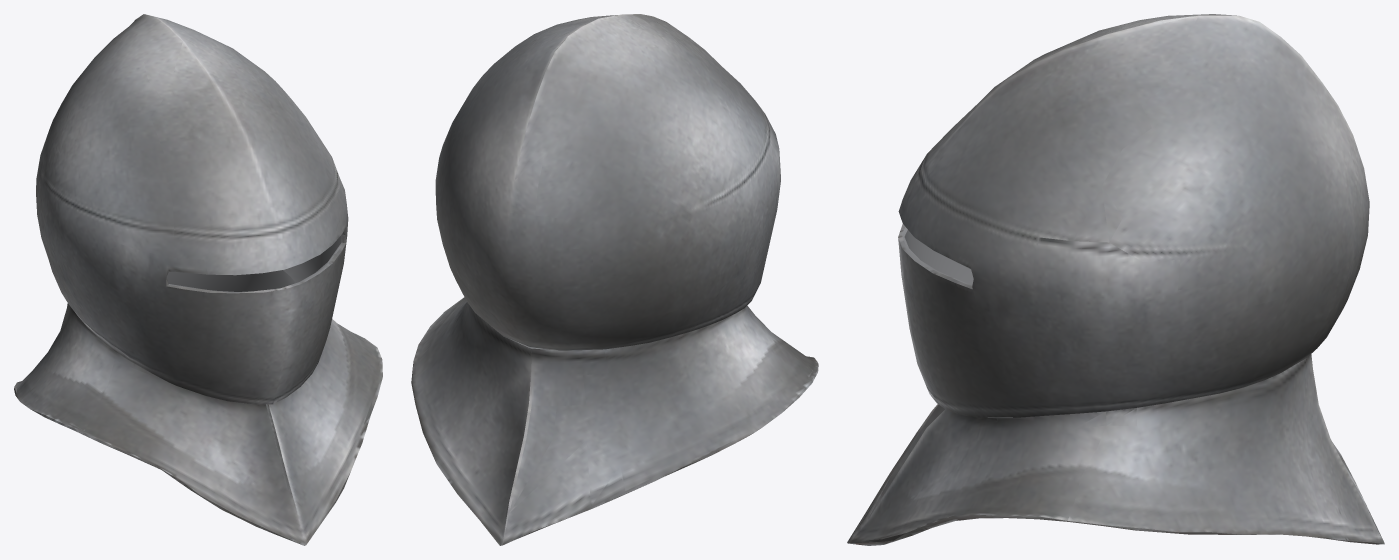
File: item_mm9_10121.glb
The picture shows the model from 3 angles, left to right: view 1: azimuth 30°, elevation 25°; view 2: azimuth 150°, elevation 25°; view 3: azimuth 270°, elevation 25°; orthographic projection. The views are drawn at different scales.
Parts seen in each view (by area): view 1: d10121; view 2: d10121; view 3: d10121.
Part boxes in pixels (x1,y1,x2,y2): d10121: (14, 14, 382, 545); d10121: (411, 14, 818, 545); d10121: (847, 14, 1384, 545).
Bounding box in the file's own units: 0.8049 × 1 × 0.923.
1 material, 1 textured.
